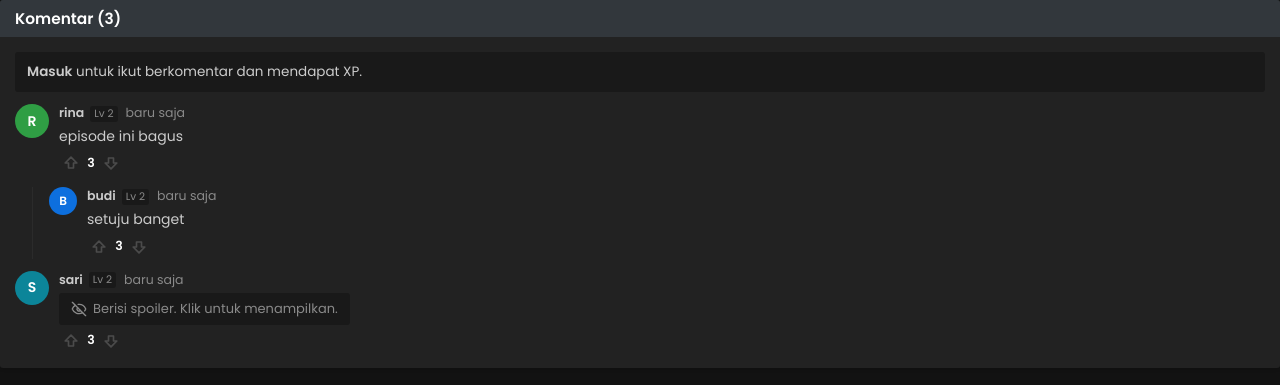
Test: Comments › nests replies under their parent and hides spoilers until revealed
This screenshot has width=1280, height=385.
Check: the text "episode ini bagus" is shown, box [59, 126, 183, 146]
Check: the text "setuju banget" is shown, box [87, 209, 184, 229]
Click the button "Berisi spoiler. Klik untuk menampilkan." at (204, 309), box [59, 293, 350, 325]
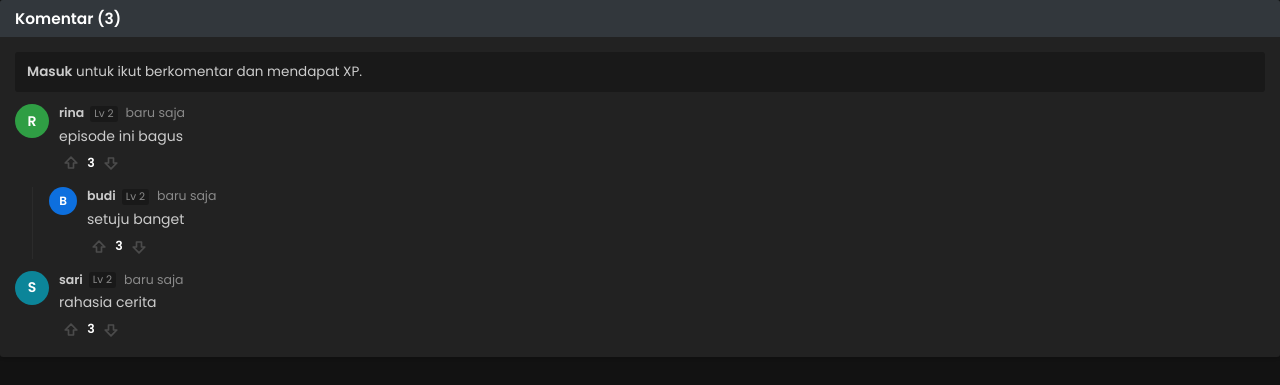
Check: the text "rahasia cerita" is shown, box [59, 292, 156, 312]
